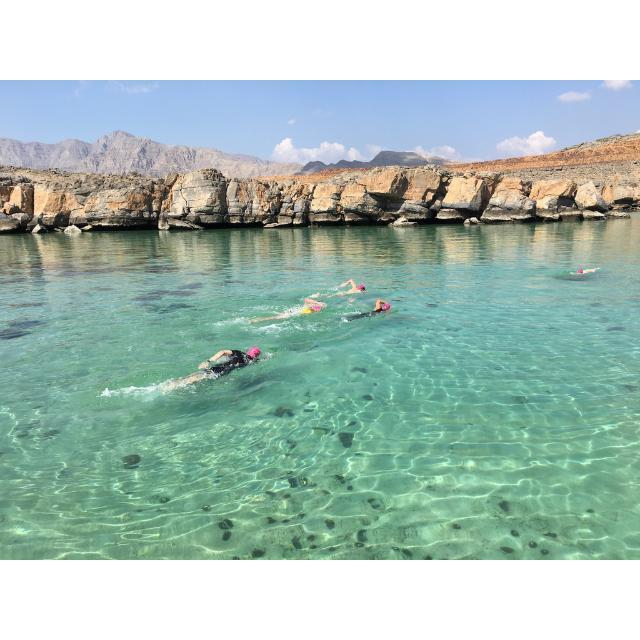human: (169, 343, 262, 390), (346, 296, 392, 322), (337, 278, 366, 299)
